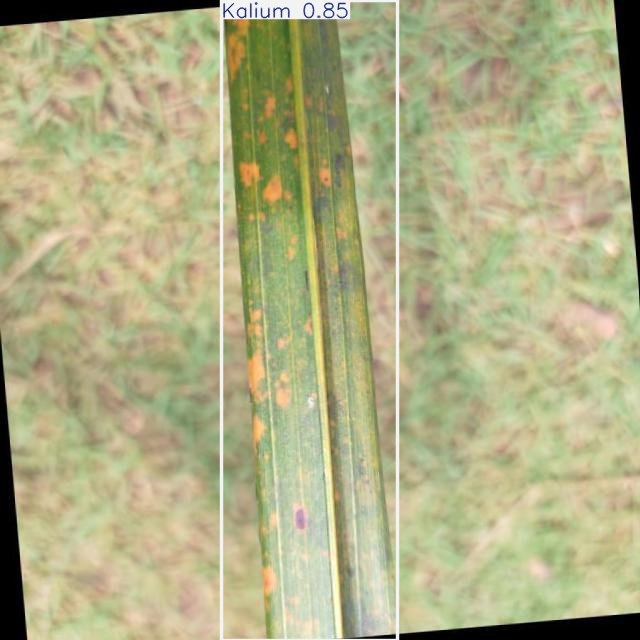Kalium: (222, 1, 398, 640)
